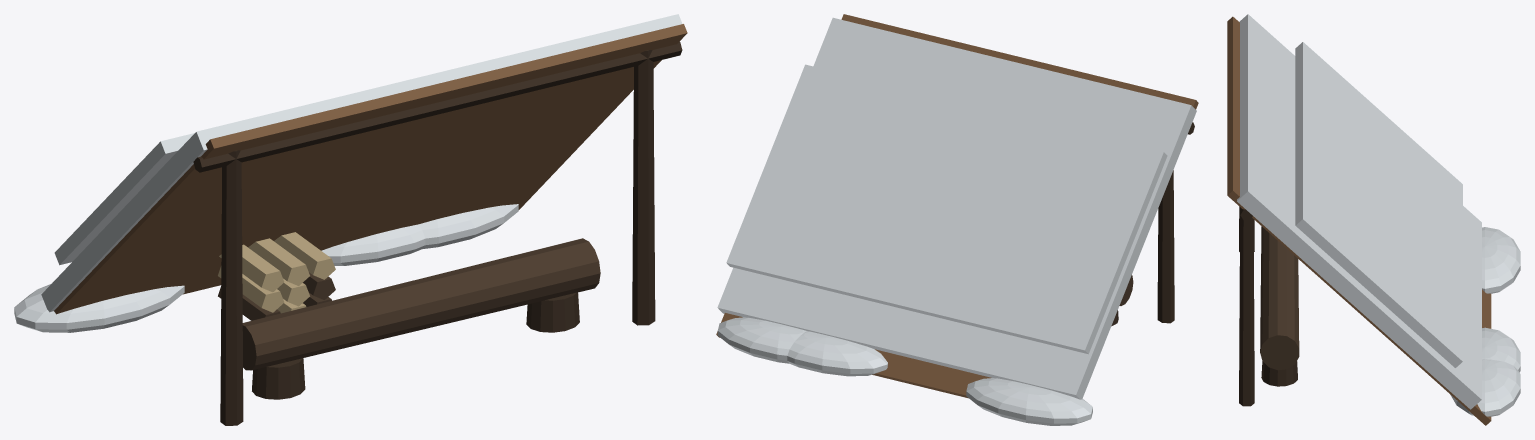
The model's file is dragonspine-lean-to.glb.
The picture shows the model from 3 angles, left to right: view 1: azimuth 30°, elevation 25°; view 2: azimuth 150°, elevation 25°; view 3: azimuth 270°, elevation 25°; orthographic projection. The views are drawn at different scales.
Visible parts, largest first — view 1: Body_Hide, Body_Snow, Body_WoodDark, Body_Wood, Body_WoodCut; view 2: Body_Snow, Body_Hide, Body_WoodDark; view 3: Body_Snow, Body_Wood, Body_WoodDark, Body_Hide.
Boxes of the visible parts, box(x1,y1,x2,y2) form: Body_Hide: box(54, 24, 687, 314); Body_Snow: box(14, 14, 682, 332); Body_WoodDark: box(193, 41, 682, 425); Body_Wood: box(218, 238, 600, 370); Body_WoodCut: box(218, 232, 335, 313); Body_Snow: box(717, 17, 1196, 425); Body_Hide: box(716, 14, 1198, 398); Body_WoodDark: box(1111, 122, 1194, 326); Body_Snow: box(1237, 14, 1520, 416); Body_Wood: box(1260, 226, 1299, 370); Body_WoodDark: box(1239, 206, 1297, 406); Body_Hide: box(1227, 16, 1491, 425).
Size of the model in its own units: 3 by 1.8 by 2.
